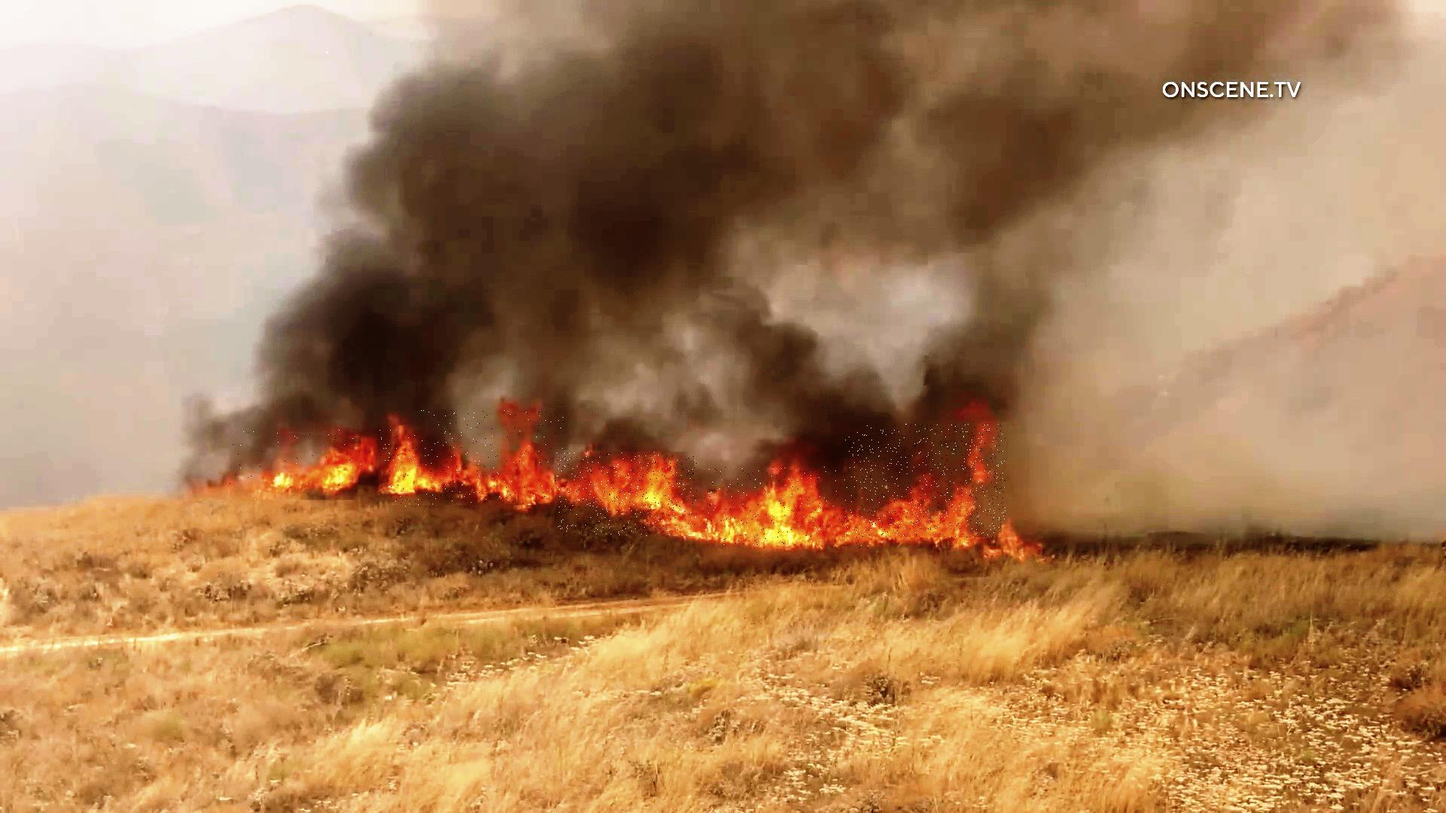fire: (846, 424, 1006, 538), (379, 411, 567, 507), (707, 467, 868, 548), (555, 452, 697, 536), (230, 430, 361, 500)
